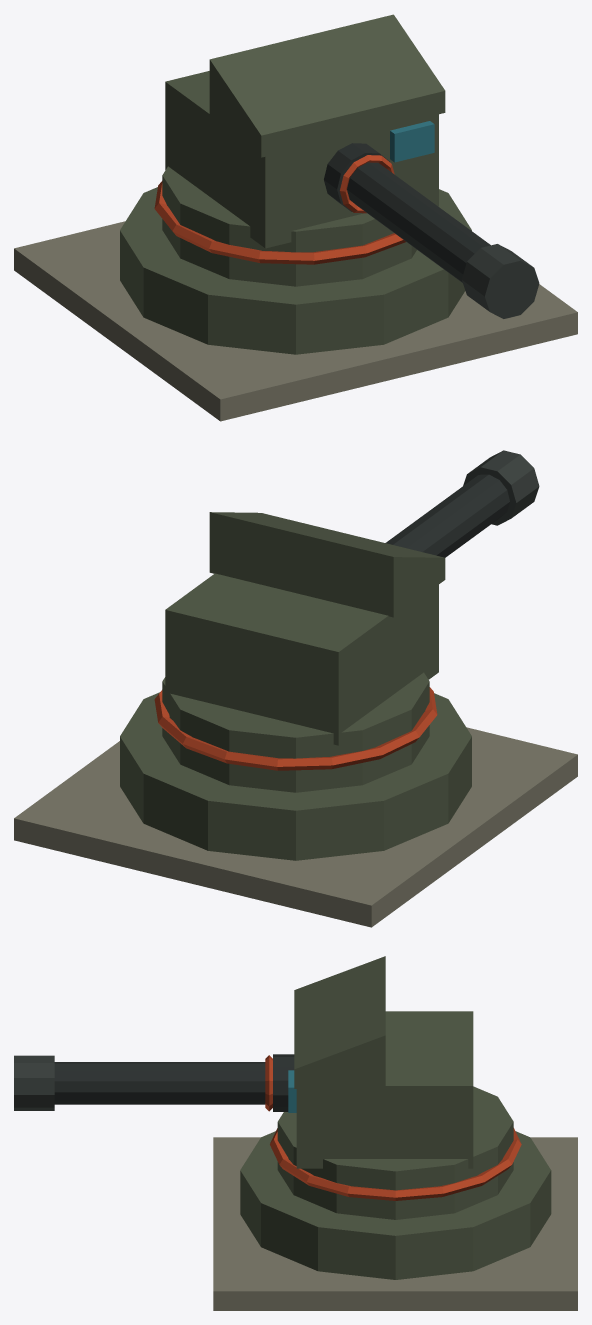
File: Bastion_Turret_Static.obj
3 renders of one model, top to bottom at view 1: azimuth 30°, elevation 25°; view 2: azimuth 150°, elevation 25°; view 3: azimuth 270°, elevation 25°, orthographic. The views are drawn at different scales.
Visible parts, largest first — view 1: Bastion_Turret_Static; view 2: Bastion_Turret_Static; view 3: Bastion_Turret_Static.
Part boxes in pixels (x1=…): Bastion_Turret_Static: x1=14, y1=14, x2=577, y2=421; Bastion_Turret_Static: x1=14, y1=450, x2=577, y2=927; Bastion_Turret_Static: x1=14, y1=956, x2=577, y2=1310.
Bounding box in the file's own units: 3.4 × 2.45 × 5.26.
Materials: 1 (1 with a texture image).
